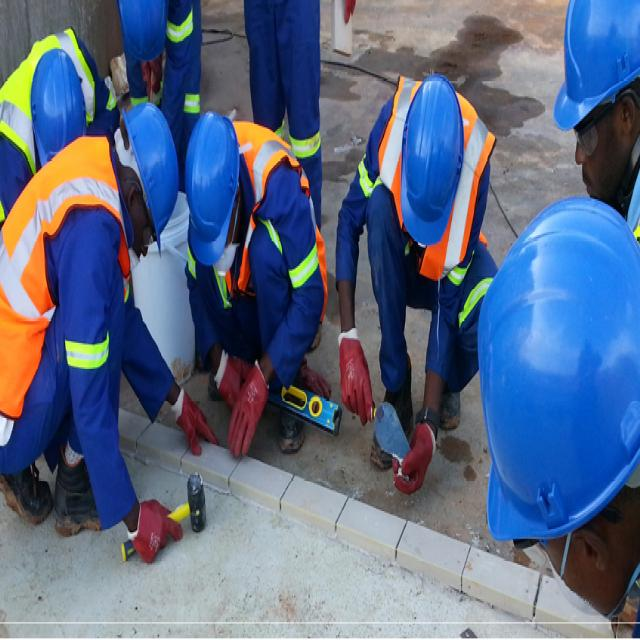Reflective-Jacket: (0, 34, 123, 422), (360, 74, 496, 297), (237, 122, 321, 296)
Safety-Helmet: (472, 202, 640, 546), (554, 0, 639, 136), (184, 106, 240, 268), (121, 96, 178, 244)
